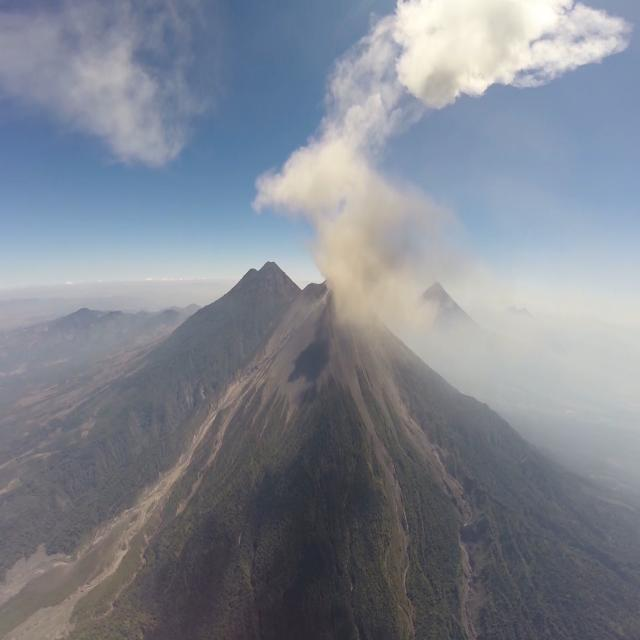Plume: (255, 123, 455, 360), (5, 2, 220, 174), (386, 2, 640, 106)
